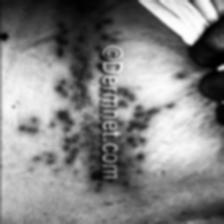Toxin: (124, 101, 176, 148), (50, 20, 72, 66)
